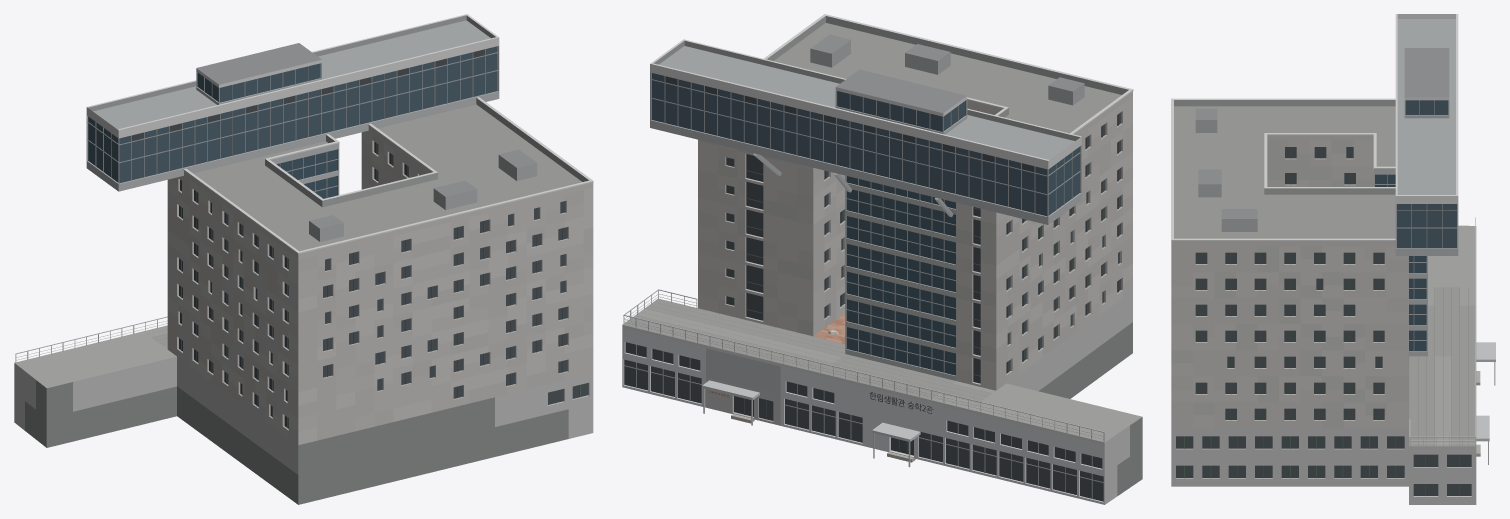
3 views of the same model, side by side, from view 1: azimuth 30°, elevation 25°; view 2: azimuth 150°, elevation 25°; view 3: azimuth 270°, elevation 25° (orthographic). The views are drawn at different scales.
Visible parts, largest first — view 1: s19__taupeA, s19__taupeB, s19__wallBase, s19__taupeC, s19__roofGravel, s19__glassBridge, s19__granite, s19__glassRoom, s19__coping, s19__roofMetal, s19__deckA, s19__bridgeFascia (+10 smaller); view 2: s19__taupeC, s19__glassBridge, s19__taupeB, s19__taupeA, s19__glassCore, s19__podiumPanel, s19__roofGravel, s19__coping, s19__deckB, s19__glassShop, s19__frameGrey, s19__deckA (+18 smaller); view 3: s19__roofGravel, s19__taupeA, s19__taupeC, s19__granite, s19__glassRoom, s19__taupeB, s19__deckB, s19__roofMetal, s19__coping, s19__deckA, s19__glassBridge, s19__roofDark (+11 smaller).
Part boxes in pixels (<box>): s19__taupeA: <box>167,126,593,444</box>; s19__taupeB: <box>167,134,593,440</box>; s19__wallBase: <box>25,380,568,504</box>; s19__taupeC: <box>167,131,593,445</box>; s19__roofGravel: <box>193,104,582,251</box>; s19__glassBridge: <box>88,46,497,183</box>; s19__granite: <box>14,356,593,474</box>; s19__glassRoom: <box>179,142,588,428</box>; s19__coping: <box>86,14,593,254</box>; s19__roofMetal: <box>93,20,490,129</box>; s19__deckA: <box>14,325,176,387</box>; s19__bridgeFascia: <box>86,46,499,191</box>; s19__taupeC: <box>698,97,1132,390</box>; s19__glassBridge: <box>652,73,1080,216</box>; s19__taupeB: <box>718,105,1132,390</box>; s19__taupeA: <box>698,91,1132,385</box>; s19__glassCore: <box>846,176,955,375</box>; s19__podiumPanel: <box>622,328,1104,504</box>; s19__roofGravel: <box>773,23,1121,133</box>; s19__coping: <box>622,14,1133,445</box>; s19__deckB: <box>622,299,992,402</box>; s19__glassShop: <box>624,359,1103,501</box>; s19__frameGrey: <box>624,76,1103,498</box>; s19__deckA: <box>636,299,1142,442</box>; s19__roofGravel: <box>1174,106,1395,238</box>; s19__taupeA: <box>1171,135,1408,428</box>; s19__taupeC: <box>1171,140,1408,428</box>; s19__granite: <box>1171,428,1476,504</box>; s19__glassRoom: <box>1176,147,1471,495</box>; s19__taupeB: <box>1171,140,1408,428</box>; s19__deckB: <box>1410,287,1476,446</box>; s19__roofMetal: <box>1397,19,1455,194</box>; s19__coping: <box>1171,14,1458,240</box>; s19__deckA: <box>1409,225,1476,446</box>; s19__glassBridge: <box>1397,100,1456,248</box>; s19__roofDark: <box>1195,48,1449,218</box>.
Bounding box in the file's own units: 58.45 × 39.3 × 36.25.
